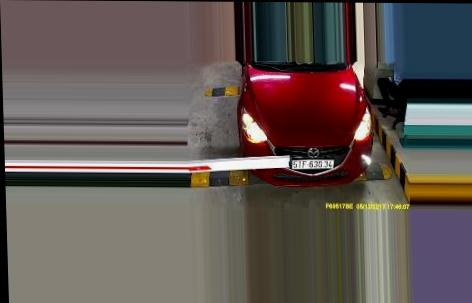License_Plate: (287, 156, 336, 171)
